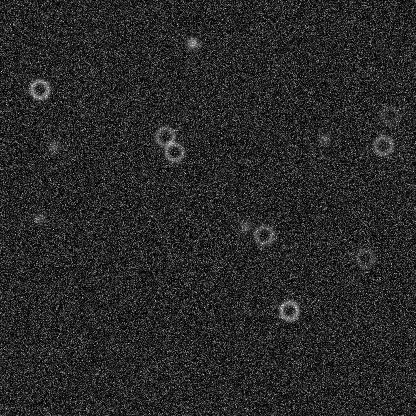Ring: (152, 124, 176, 148), (27, 77, 51, 101), (161, 139, 185, 163), (377, 103, 401, 127), (353, 245, 377, 269), (371, 133, 395, 157), (251, 223, 275, 247), (276, 298, 300, 322)
Spot: (45, 138, 61, 154), (184, 35, 200, 51), (316, 130, 332, 146), (31, 210, 47, 226), (236, 217, 252, 233)
